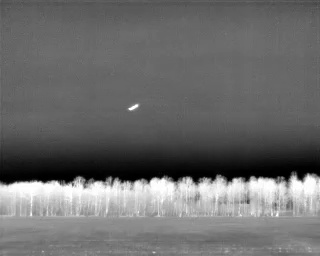DRONE: (124, 98, 143, 115)
